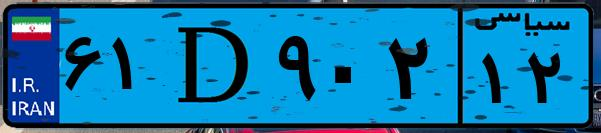0: (330, 28, 385, 110)
1: (475, 38, 525, 113), (110, 28, 158, 98)
2: (385, 28, 445, 110), (525, 38, 570, 115)
6: (57, 26, 110, 100)
9: (270, 28, 330, 110)
D: (158, 12, 270, 120)
